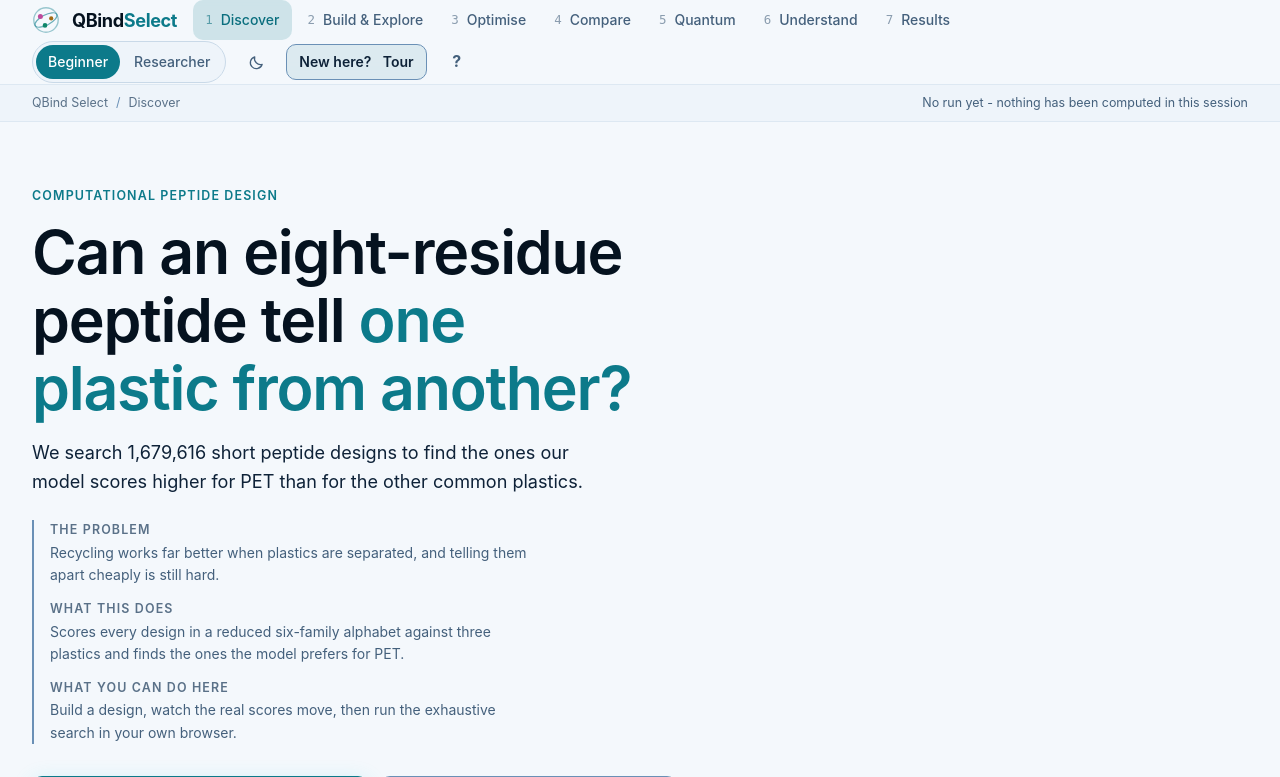
shell and navigation › navigates to compare without crashing, before any computation exists
Expected: the heading "Can an eight-residue peptide tell one plastic from another?" is shown, [32,218,718,422]
Click the link "4 Compare" at {"x": 592, "y": 19}, box [554,11,631,28]
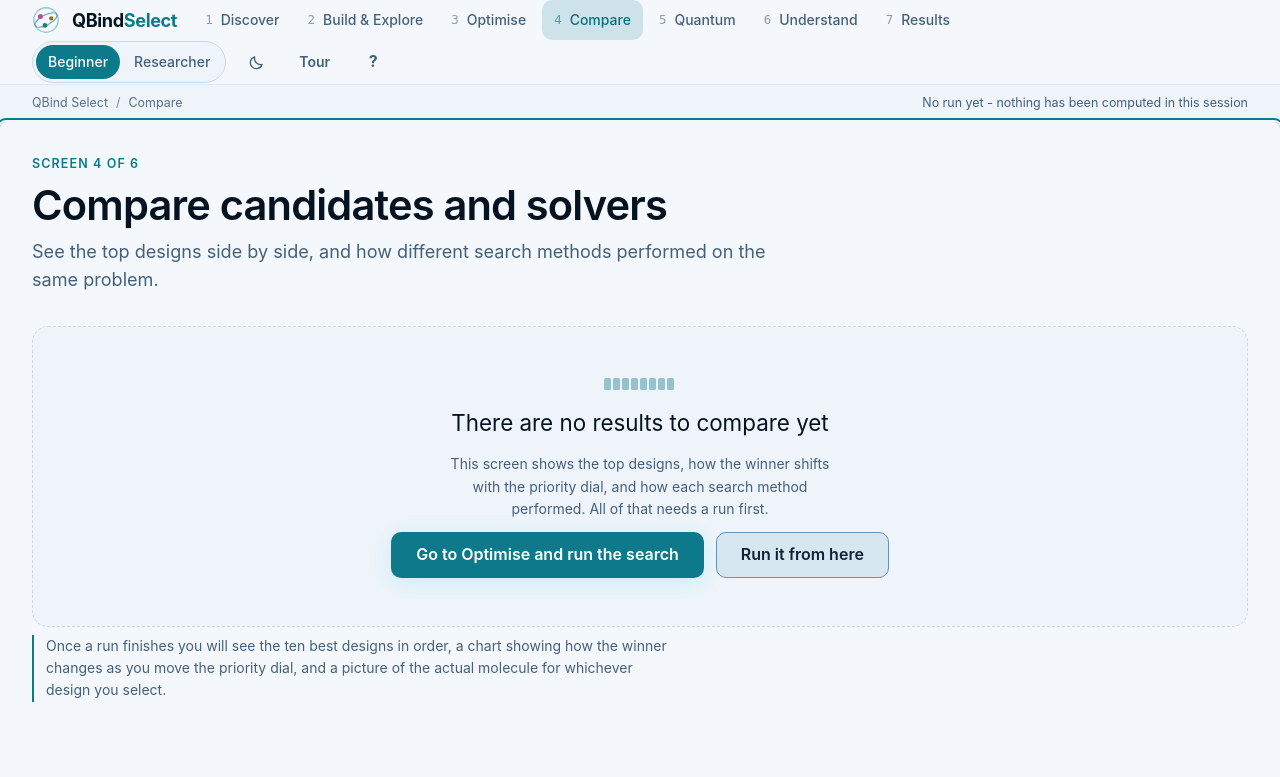
Expected: the heading "Compare candidates and solvers" is shown, [32,180,667,230]
